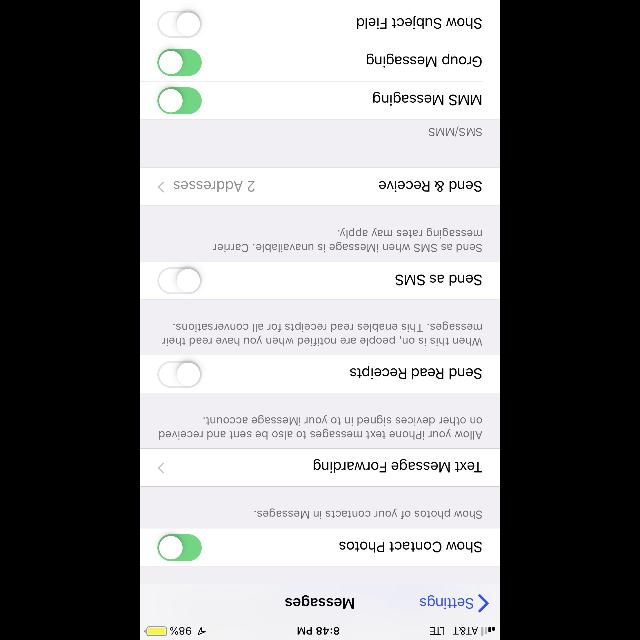icon: (478, 594, 488, 612), (158, 462, 165, 473), (158, 182, 165, 192)
switch: (157, 10, 201, 38), (158, 48, 202, 76), (157, 360, 201, 388), (157, 88, 201, 114), (158, 268, 202, 294), (157, 534, 201, 560)
text: (160, 414, 482, 440), (162, 322, 482, 346), (213, 228, 482, 252), (314, 459, 482, 473), (254, 508, 482, 518), (351, 366, 482, 380), (356, 16, 482, 30), (366, 54, 482, 68), (373, 92, 481, 106), (339, 542, 481, 552), (378, 180, 482, 192), (395, 274, 481, 286), (173, 180, 254, 192), (285, 596, 353, 608), (420, 595, 472, 609), (428, 126, 482, 136)
uppertaskbar: (140, 626, 500, 640)
